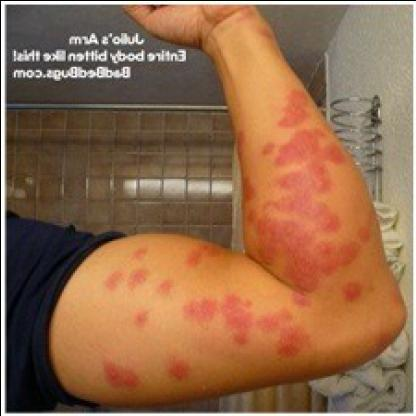Bed Bug: (262, 193, 374, 302), (183, 286, 255, 343), (255, 124, 353, 162), (259, 304, 320, 354), (277, 164, 335, 192), (272, 84, 314, 122), (102, 356, 142, 388), (182, 238, 224, 266), (103, 263, 150, 286), (164, 352, 192, 380), (231, 3, 263, 20), (154, 274, 176, 296), (235, 124, 248, 158), (134, 304, 154, 326), (248, 202, 260, 238), (242, 171, 257, 199), (240, 244, 260, 262), (257, 23, 275, 41), (132, 242, 150, 260), (388, 282, 404, 302), (376, 326, 394, 342)
